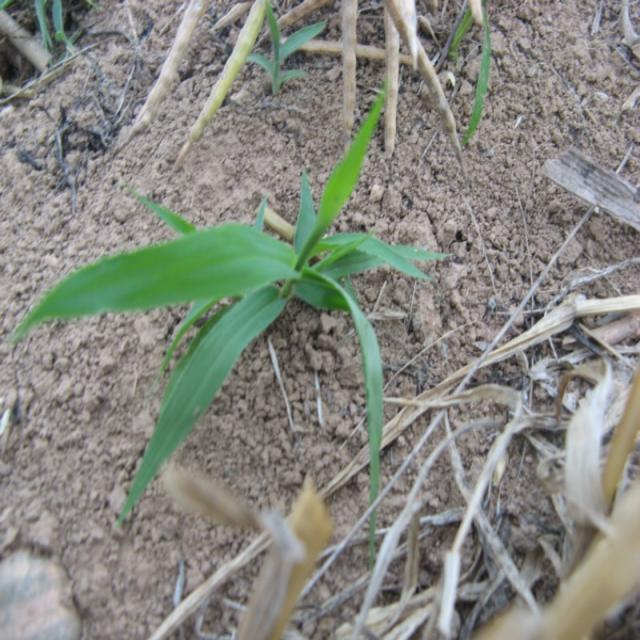bg: (16, 85, 440, 548)
